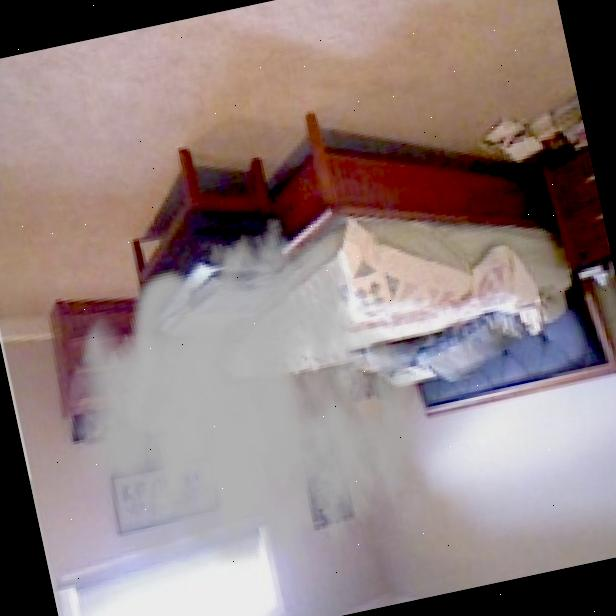smoke: (36, 194, 454, 616)
